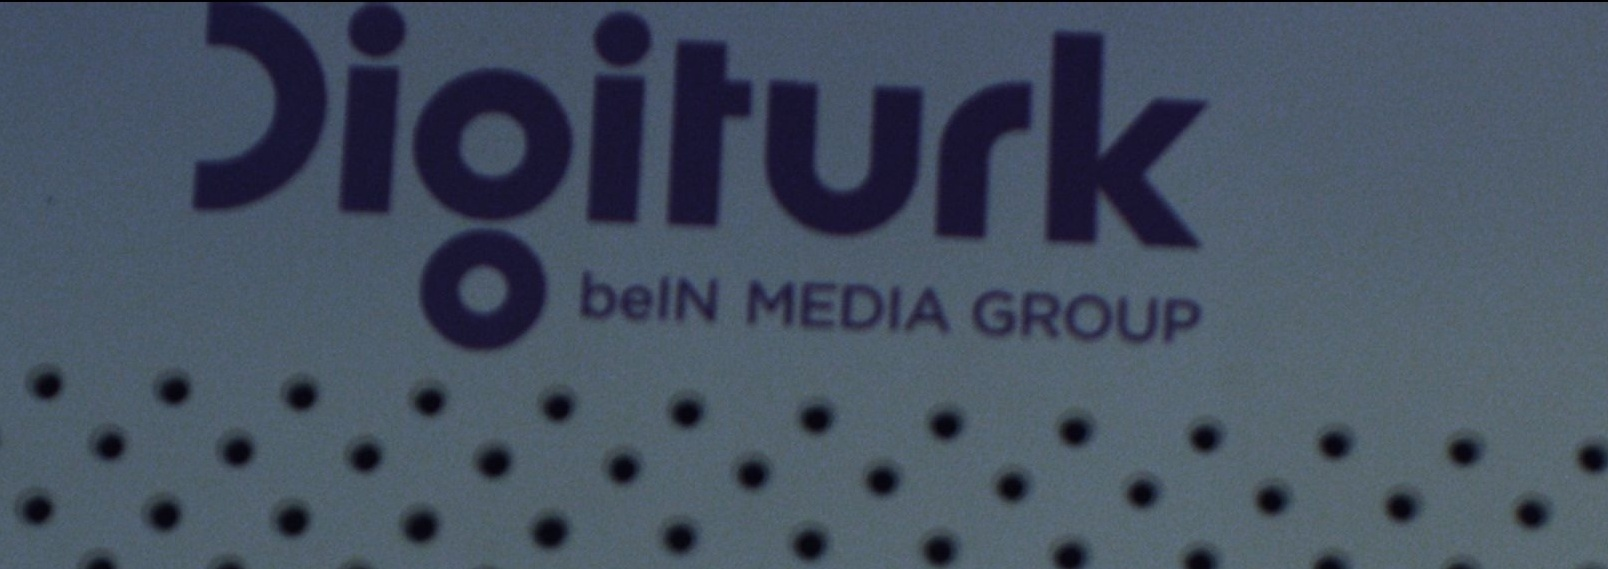BW_H168ADigiturk: (182, 3, 1254, 362)
